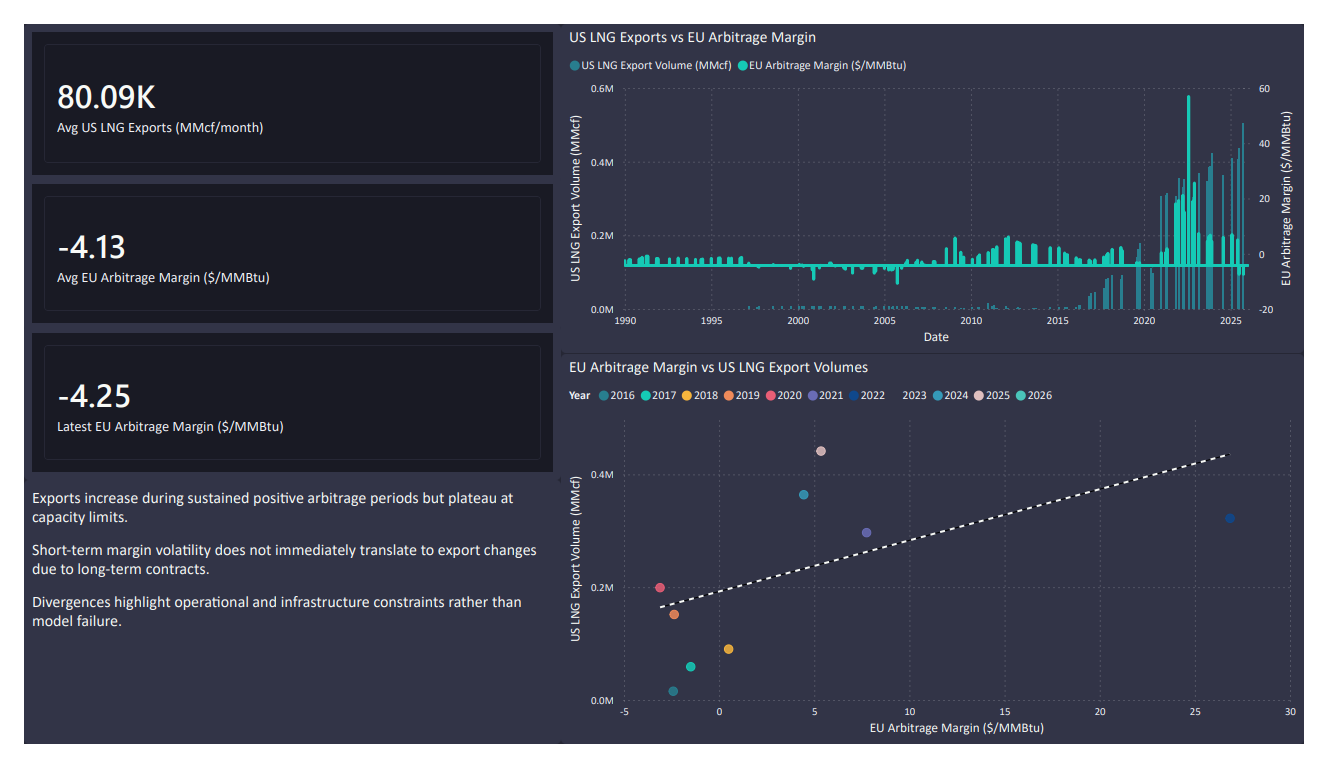

Layout of this report page (visuals, bound fields, positions):
{"tool":"powerbi","page":{"name":"Page 2","canvas":[1280,720],"ordinal":1},"visuals":[{"type":"lineClusteredColumnComboChart","title":"US LNG Exports vs EU Arbitrage Margin","fields":{"Category":["DateTable.Date"],"Y":["Asia_LNG.US_LNG_Exports"],"Y2":["Asia_LNG.Arb_Margin_EU"]},"box":[536.9,0,743.3,329.5],"z":0},{"type":"scatterChart","title":"EU Arbitrage Margin vs US LNG Export Volumes","fields":{"X":["Asia_LNG.Arb_Margin_EU"],"Y":["Asia_LNG.US_LNG_Exports"],"Series":["DateTable.Year"]},"box":[536.9,329.7,743.1,390],"z":1},{"type":"cardVisual","title":"Avg US LNG Exports (MMcf/month)","fields":{"Data":["Asia_LNG.Avg_US_LNG_Exports"]},"box":[0,0,536.9,158.5],"z":2},{"type":"cardVisual","fields":{"Data":["Asia_LNG.Avg_EU_Arb_Margin"]},"box":[0,151.7,536.9,155.6],"z":3},{"type":"cardVisual","fields":{"Data":["Asia_LNG.Latest_EU_Arb_Margin"]},"box":[0,300.5,536.9,155.6],"z":4},{"type":"textbox","box":[0,456.2,536.9,263.6],"z":5}]}

Visuals, with their boxes in screenshot pixels (x1, y1, x2, y2), scaled from the page's 1280x720 canvas onto the 1327x768 screenshot:
"US LNG Exports vs EU Arbitrage Margin" lineClusteredColumnComboChart: <box>557,0,1326,351</box>
"EU Arbitrage Margin vs US LNG Export Volumes" scatterChart: <box>557,352,1326,767</box>
"Avg US LNG Exports (MMcf/month)" cardVisual: <box>0,0,557,169</box>
cardVisual - Asia_LNG.Avg_EU_Arb_Margin: <box>0,162,557,328</box>
cardVisual - Asia_LNG.Latest_EU_Arb_Margin: <box>0,321,557,487</box>
textbox: <box>0,487,557,767</box>
